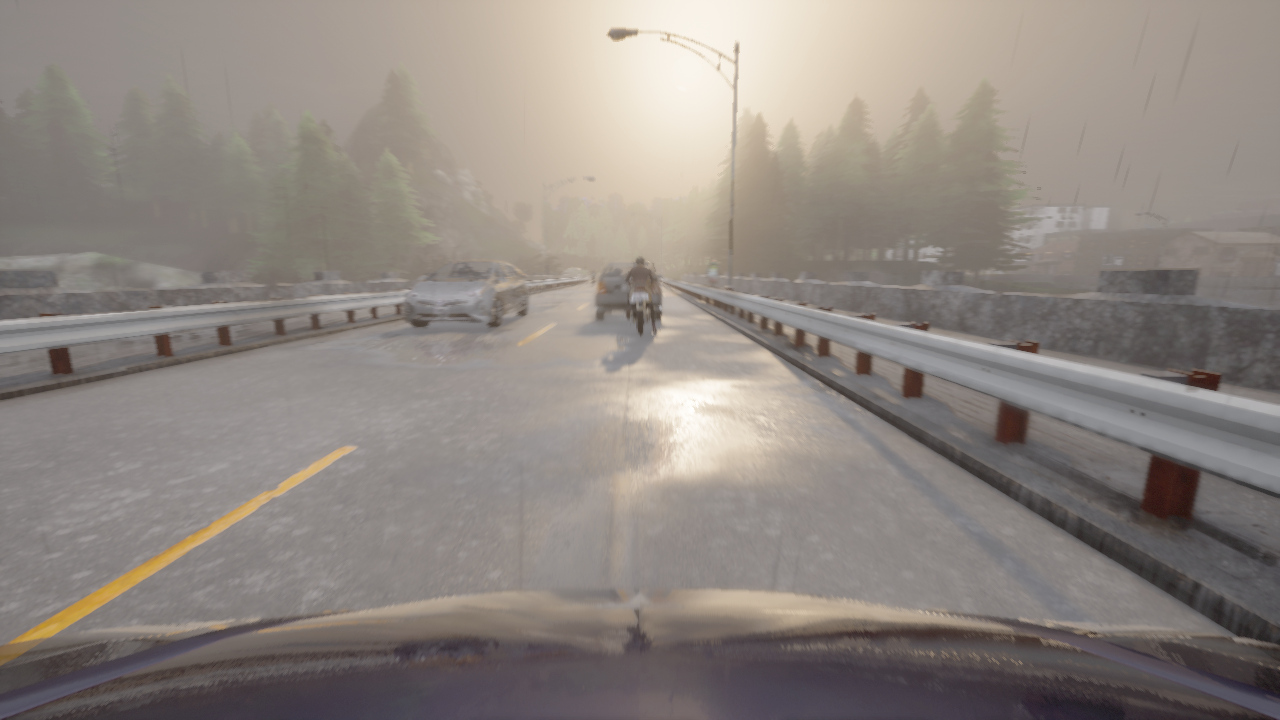cyclist: (0, 588, 1279, 719), (404, 260, 529, 327), (594, 260, 663, 321), (620, 278, 659, 335), (591, 273, 595, 286), (651, 262, 656, 271)
